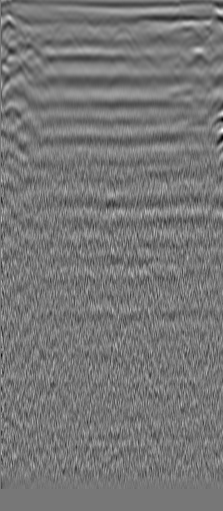오수: (20, 28, 40, 48)
우수: (170, 16, 201, 49)
